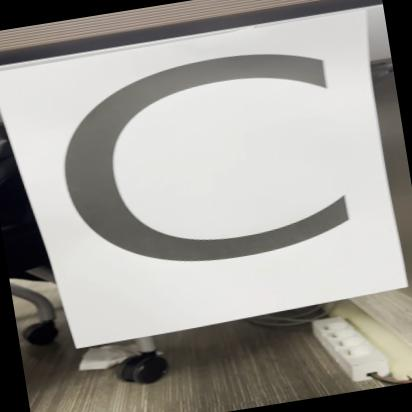seat: (0, 6, 408, 352)
